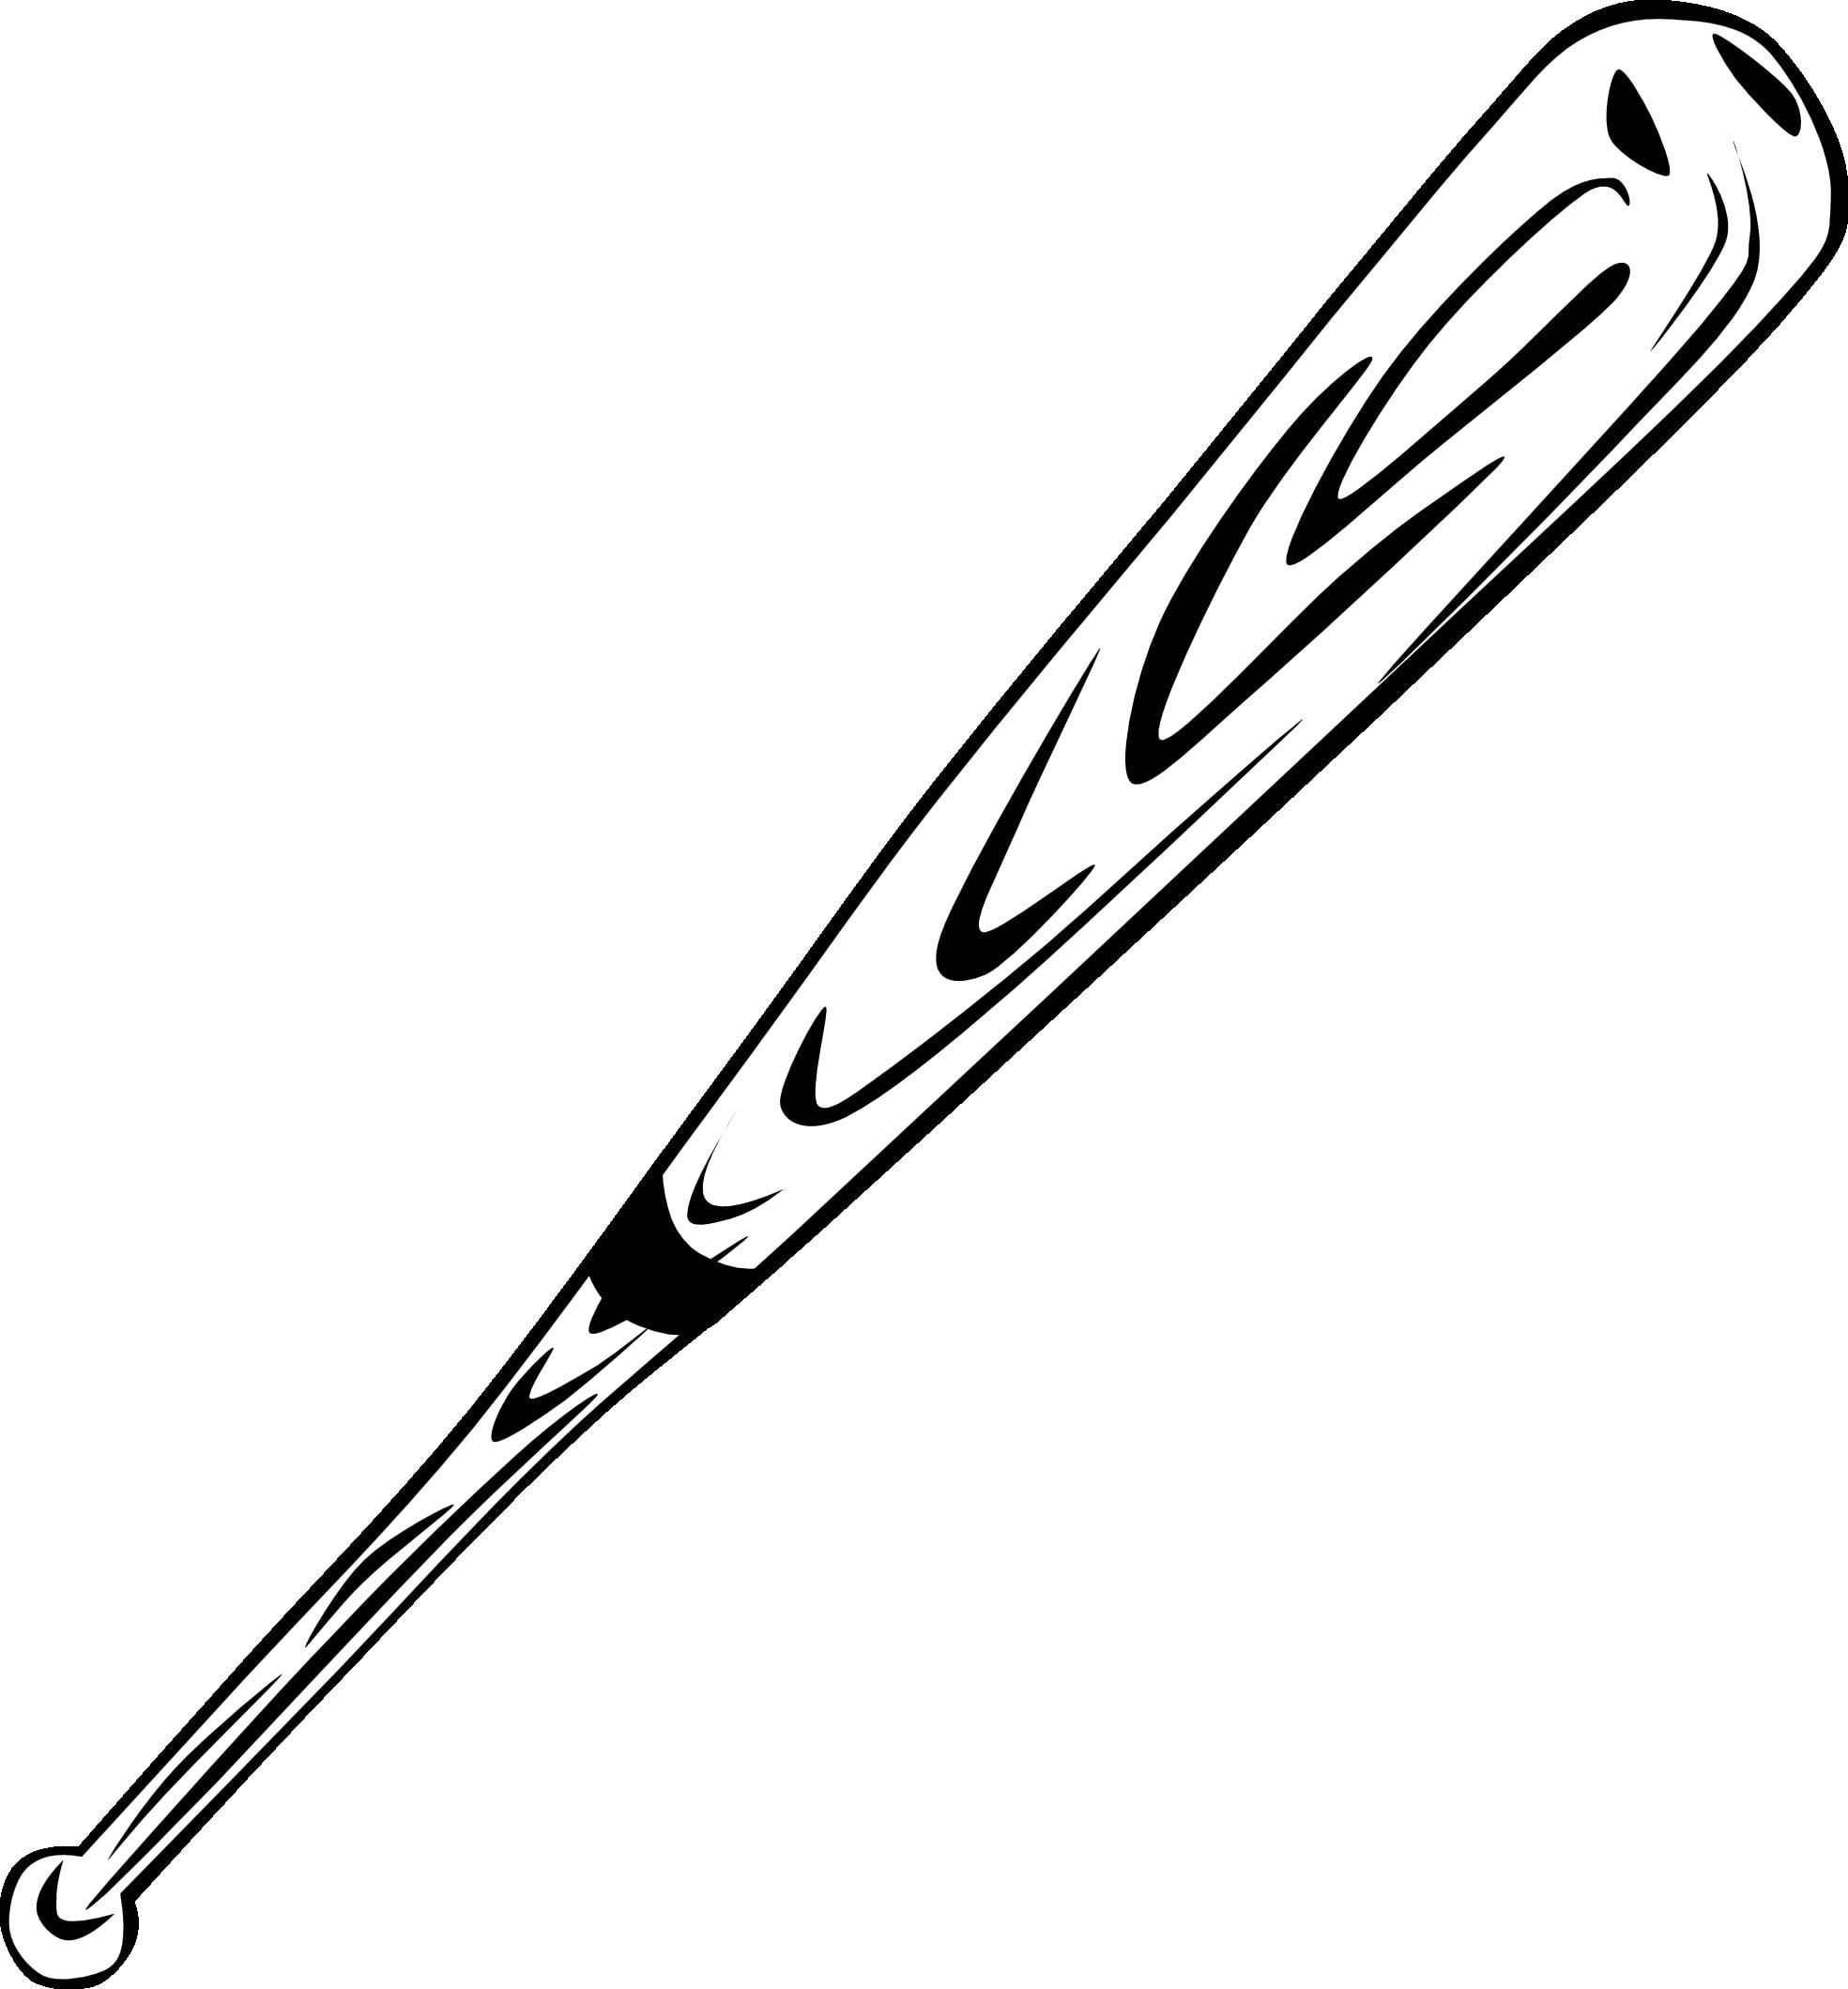Baseball-Bat: (0, 24, 1848, 1989)
